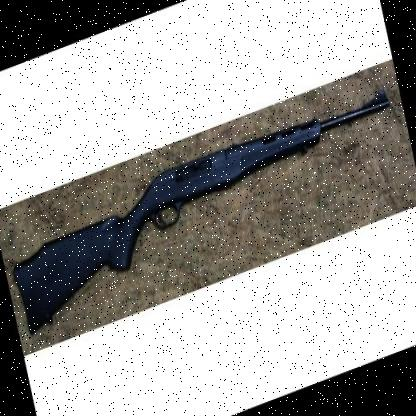rifle: (6, 82, 404, 332)
